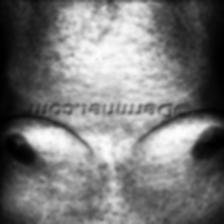Toxin: (3, 0, 207, 92), (0, 165, 222, 224), (52, 121, 182, 158)
